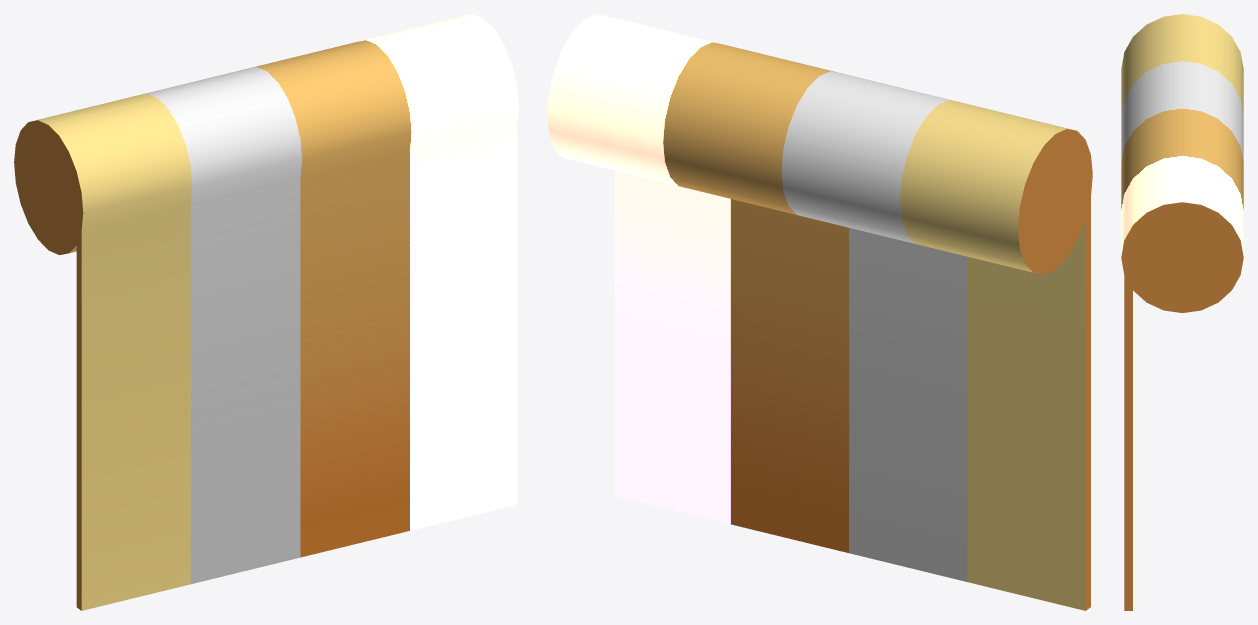
The model's file is ColorSet_01.glb.
The picture shows the model from 3 angles, left to right: view 1: azimuth 30°, elevation 25°; view 2: azimuth 150°, elevation 25°; view 3: azimuth 270°, elevation 25°; orthographic projection. The views are drawn at different scales.
Parts seen in each view (by area): view 1: ColorSet_01; view 2: ColorSet_01; view 3: ColorSet_01.
Boxes of the visible parts, x1,y1,x2,y2 form: ColorSet_01: (14,14,518,610); ColorSet_01: (547,14,1092,610); ColorSet_01: (1121,14,1243,610).
Bounding box in the file's own units: 0.6697 × 0.6784 × 0.1842.
1 material, 1 textured.
